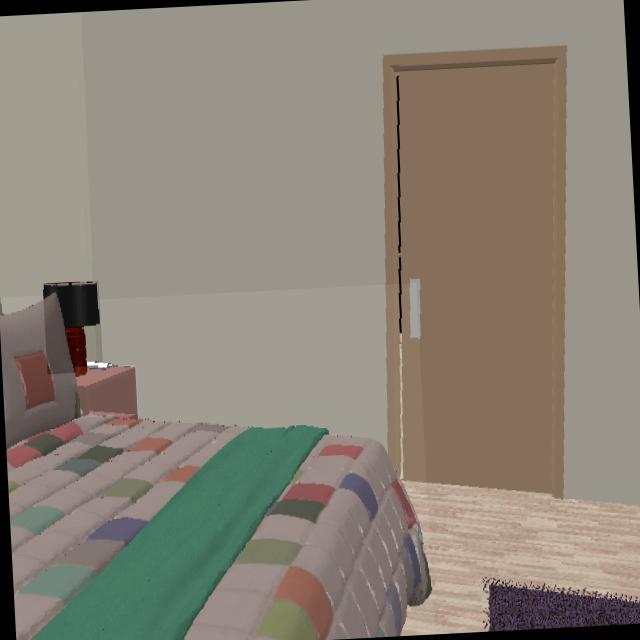bed: (0, 302, 432, 640)
lamp: (44, 284, 101, 373)
nighttable: (76, 366, 137, 415)
pillow: (0, 295, 81, 452)
